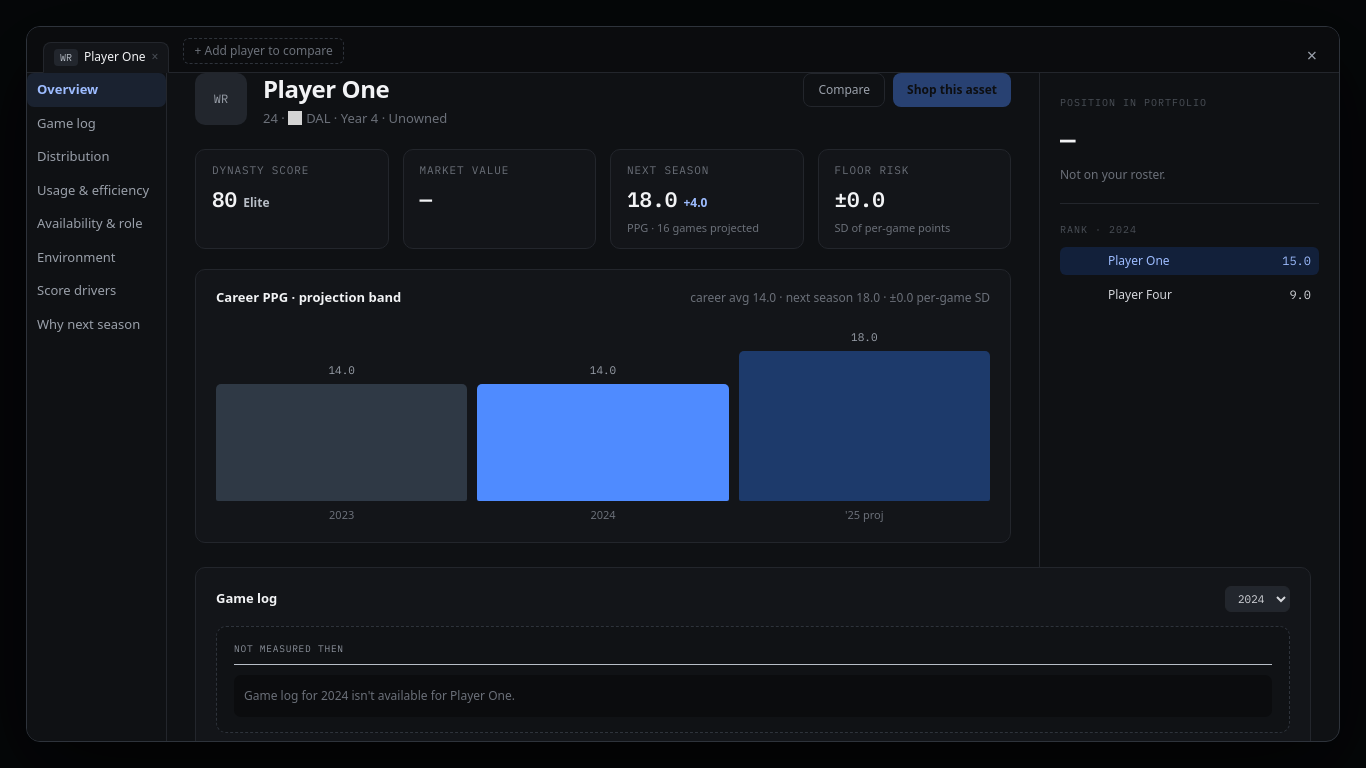
it: add-player dropdown › suggestions are the top 5 by dynasty score, excluding already-open tabs
Click the button "+ Add player to compare" at {"x": 264, "y": 51}, box [184,38,344,64]
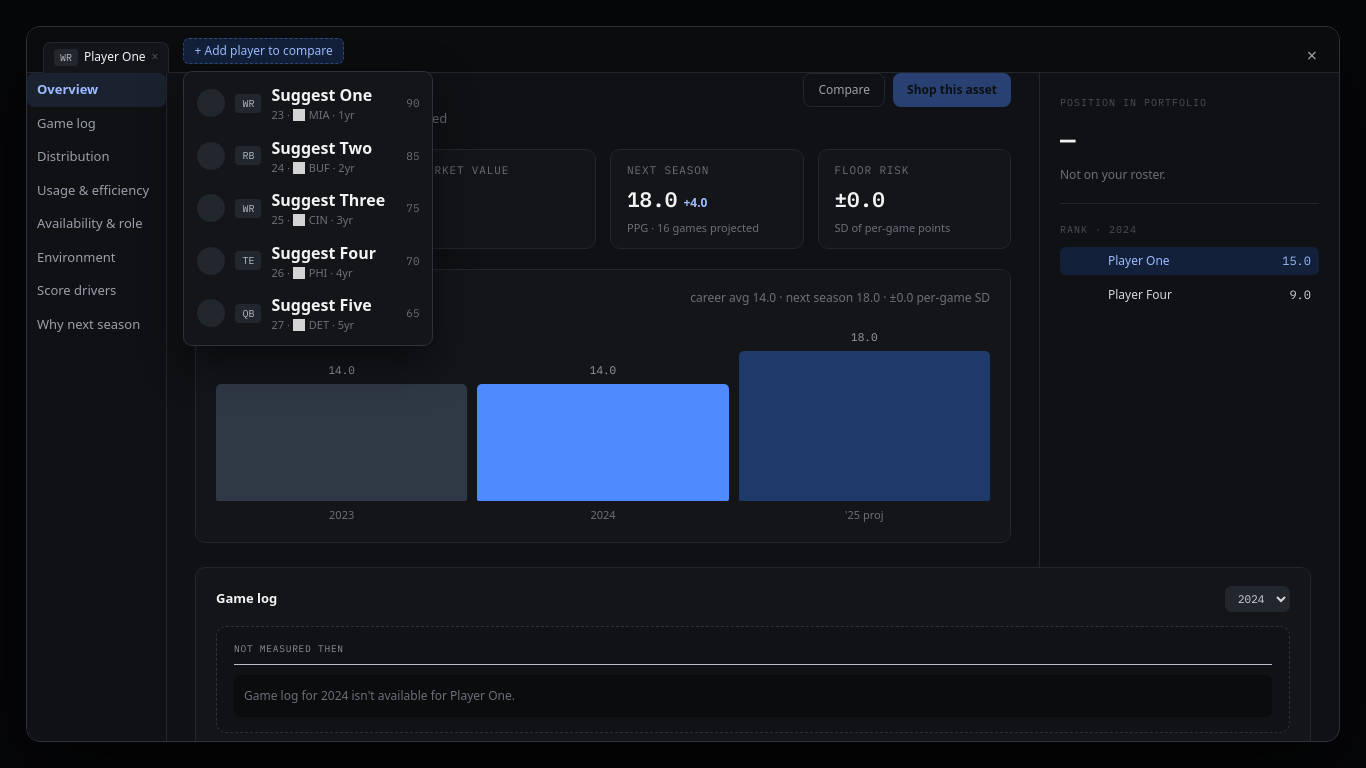
Expected: the text "Suggest One" is shown, [272,83,372,107]
Expected: the text "Suggest Five" is shown, [272,293,372,317]
